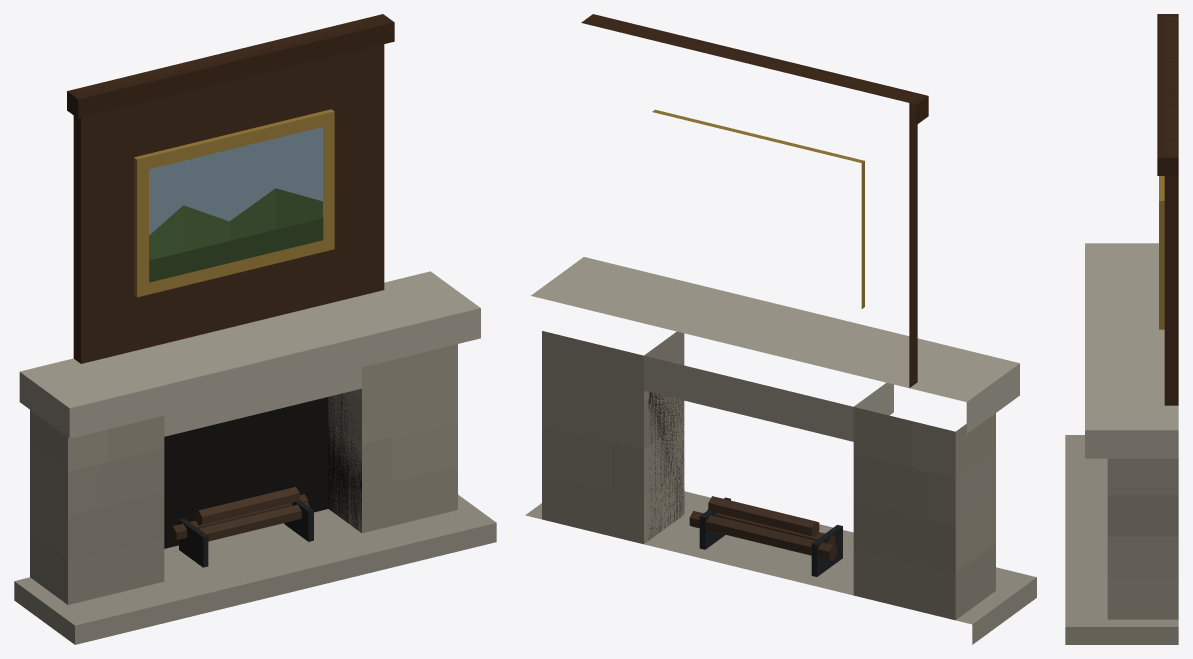
The model's file is wall.fireplace.landscape.glb.
3 renders of one model, left to right at view 1: azimuth 30°, elevation 25°; view 2: azimuth 150°, elevation 25°; view 3: azimuth 270°, elevation 25°, orthographic. The views are drawn at different scales.
Visible parts, largest first — view 1: wall_fireplace_landscape; view 2: wall_fireplace_landscape; view 3: wall_fireplace_landscape.
Boxes of the visible parts, bbox=[...] form: wall_fireplace_landscape: bbox=[14, 14, 496, 644]; wall_fireplace_landscape: bbox=[525, 14, 1036, 644]; wall_fireplace_landscape: bbox=[1065, 14, 1178, 644].
Size of what is drawn, in the model's own units: 3.2 by 3.6 by 0.8.
